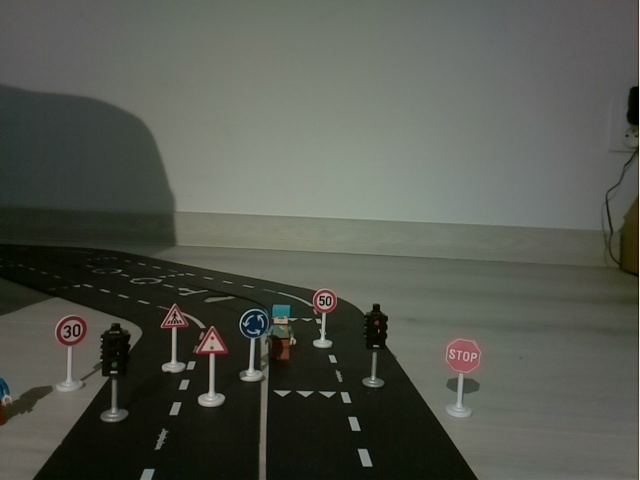green light: (98, 321, 137, 428)
limit 30: (52, 315, 88, 394)
limit 50: (310, 286, 339, 352)
pedestrian sign: (158, 302, 189, 377)
person: (270, 303, 297, 364)
red light: (361, 302, 389, 394)
round: (237, 309, 267, 382)
stop: (440, 334, 484, 420)
traffic light sign: (194, 325, 228, 411)
